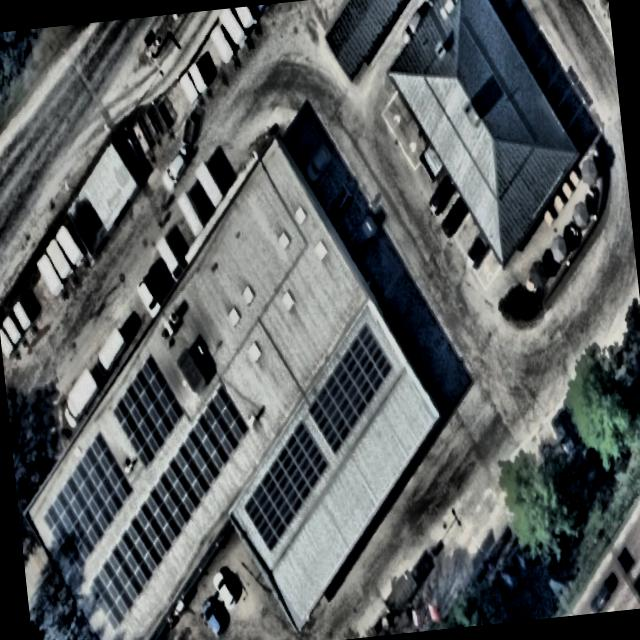roof_pv: (33, 429, 140, 581), (297, 319, 402, 459), (235, 416, 338, 554), (106, 348, 190, 474), (180, 383, 256, 490), (81, 534, 146, 638), (137, 457, 209, 543), (120, 506, 174, 584)
